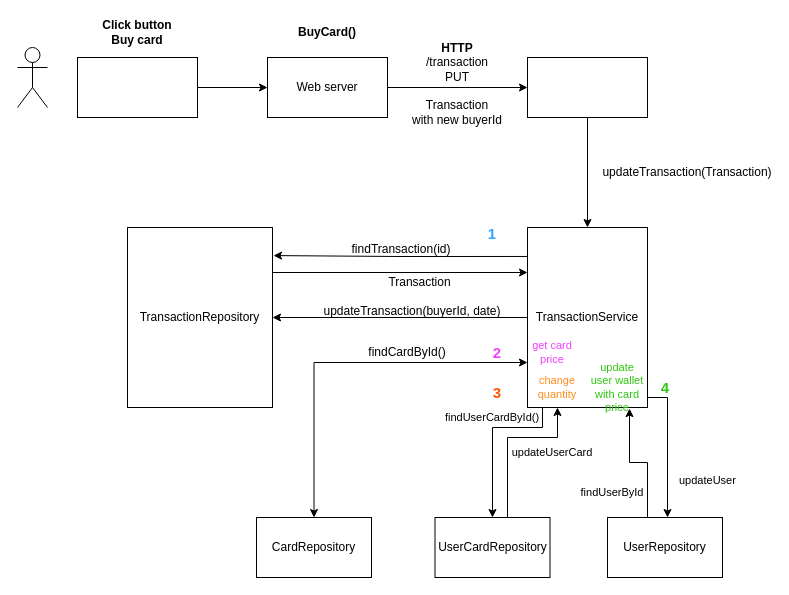
This 789x595 diagram has some shape labels left out. Here are the shapes that lost their labels. From the top down, the centre of each, then its label:
At [32,77]: "User".
At [137,87]: "Web browser".
At [587,87]: "TransactionRestCtr".
